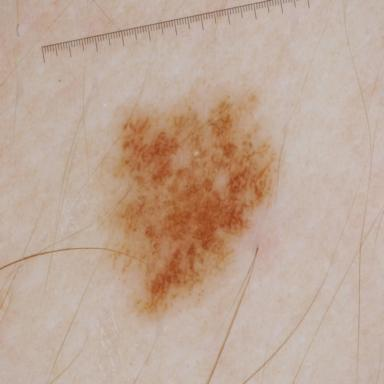nevus: (117, 96, 272, 310)
